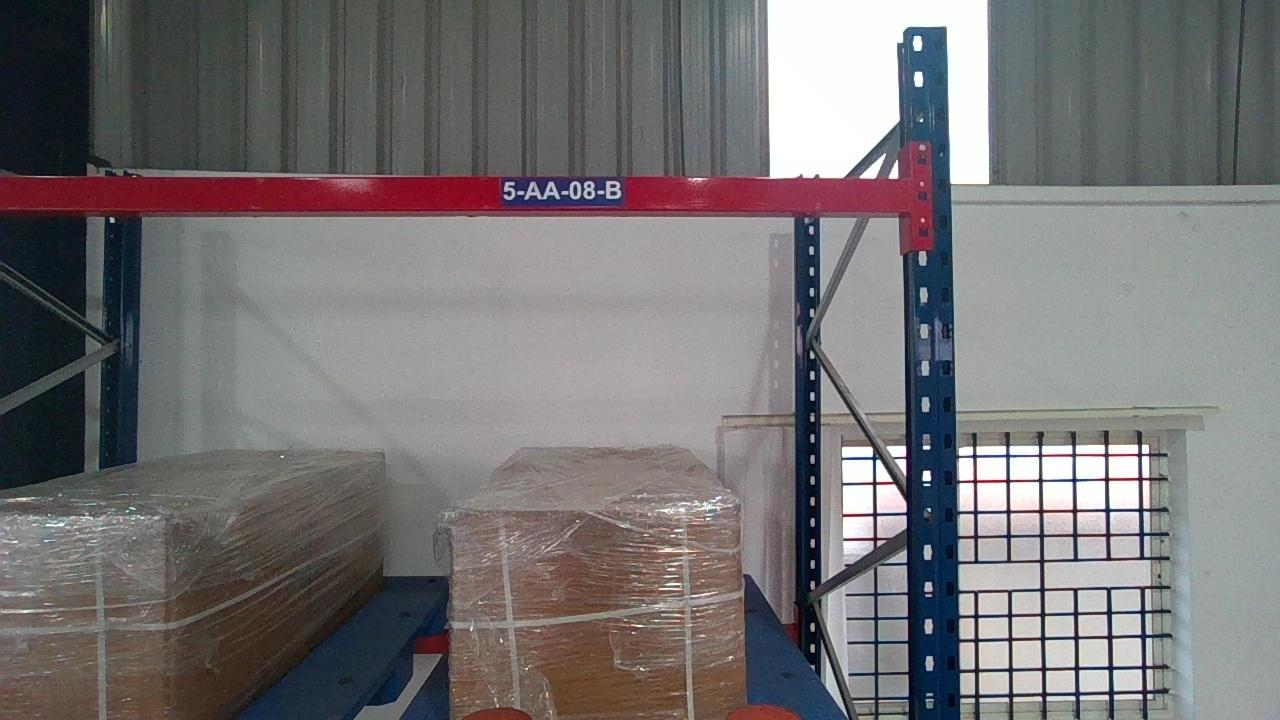h_rack: (0, 172, 913, 214)
